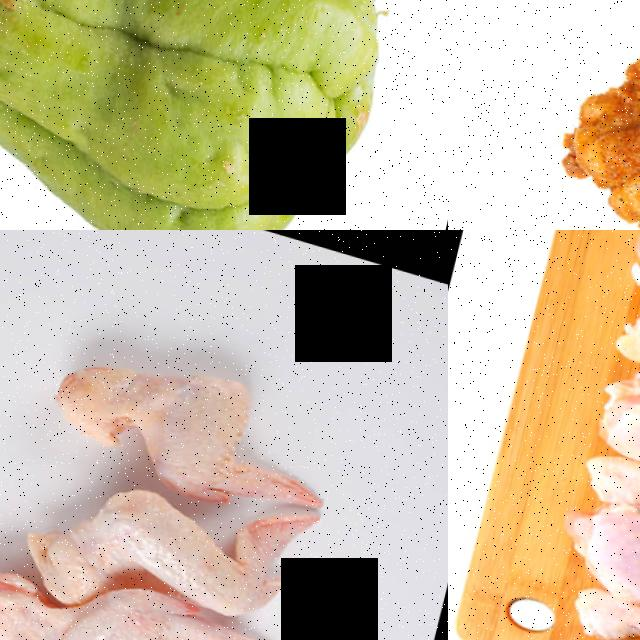chayote: (0, 0, 424, 230)
chicken thigh: (539, 0, 640, 230), (571, 402, 640, 586), (569, 488, 640, 640)
chicken wing: (31, 314, 351, 530), (30, 436, 329, 640), (0, 533, 302, 640)
